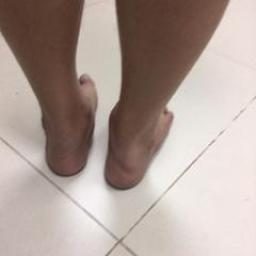Back View -Both Feet-: (11, 53, 190, 203)
